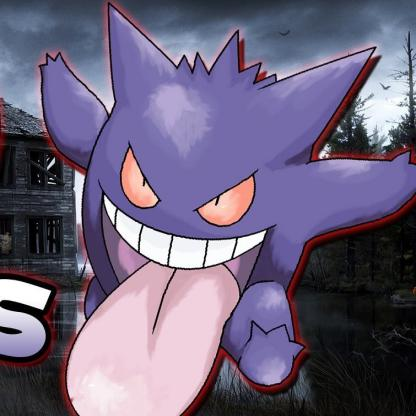Gengar: (43, 6, 416, 392)
